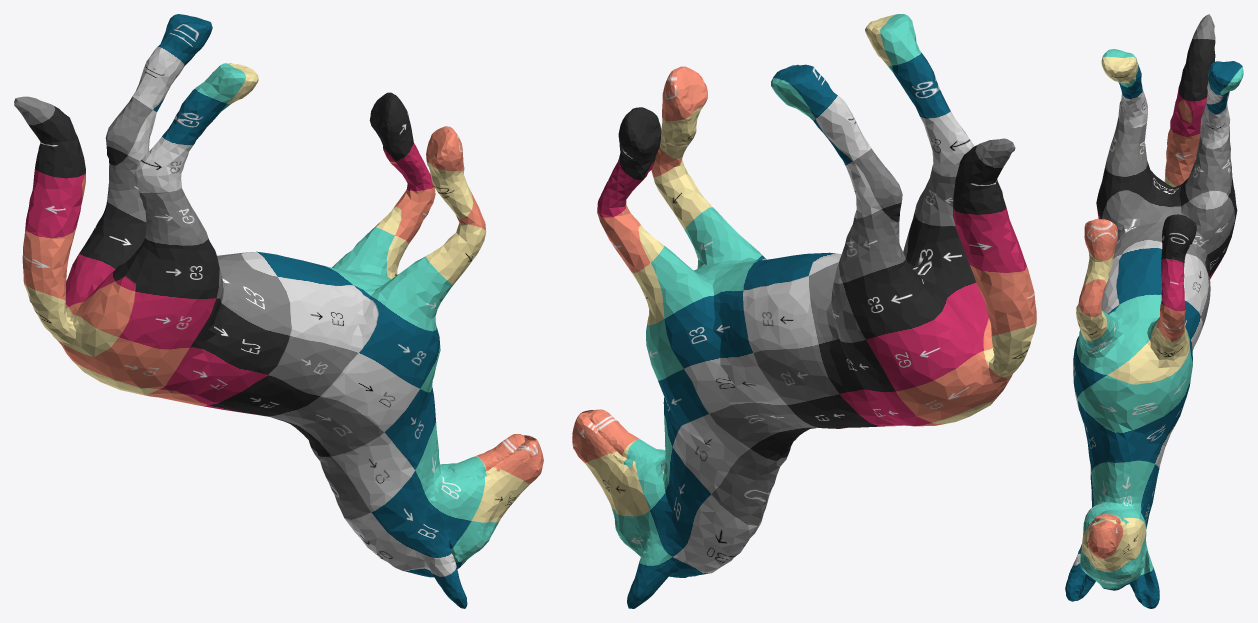
Rendered from horse_03-horse_08.obj.
3 views of the same model, side by side, from view 1: azimuth 30°, elevation 25°; view 2: azimuth 150°, elevation 25°; view 3: azimuth 270°, elevation 25° (orthographic). The views are drawn at different scales.
Parts seen in each view (by area): view 1: horse_03-horse_08_export; view 2: horse_03-horse_08_export; view 3: horse_03-horse_08_export.
Boxes of the visible parts, bbox=[...] form: horse_03-horse_08_export: bbox=[14, 14, 543, 608]; horse_03-horse_08_export: bbox=[572, 14, 1036, 608]; horse_03-horse_08_export: bbox=[1065, 14, 1243, 608].
Size of the model in its own units: 0.8288 by 0.9724 by 0.3354.
